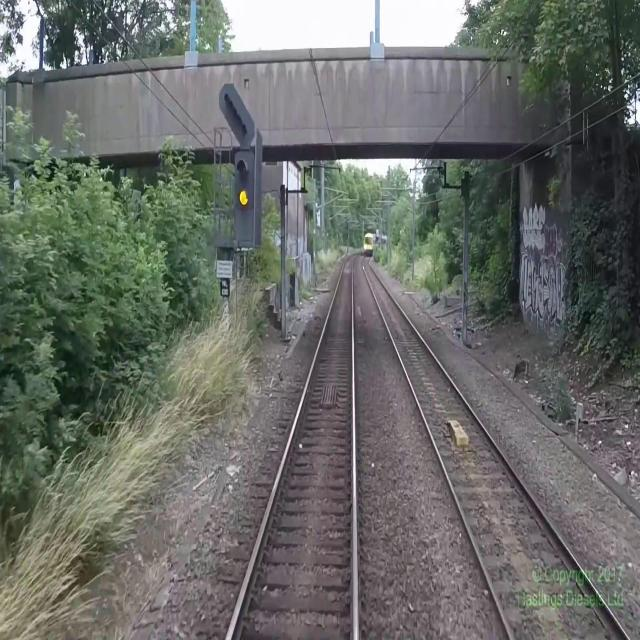rail-track: (364, 255, 625, 639), (229, 254, 356, 639)
